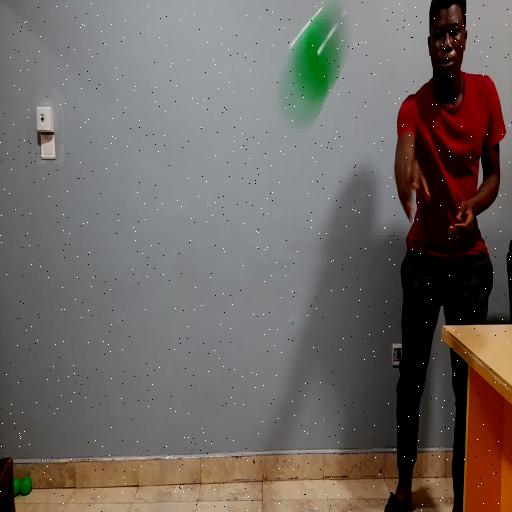plastic-ball: (276, 0, 354, 139)
